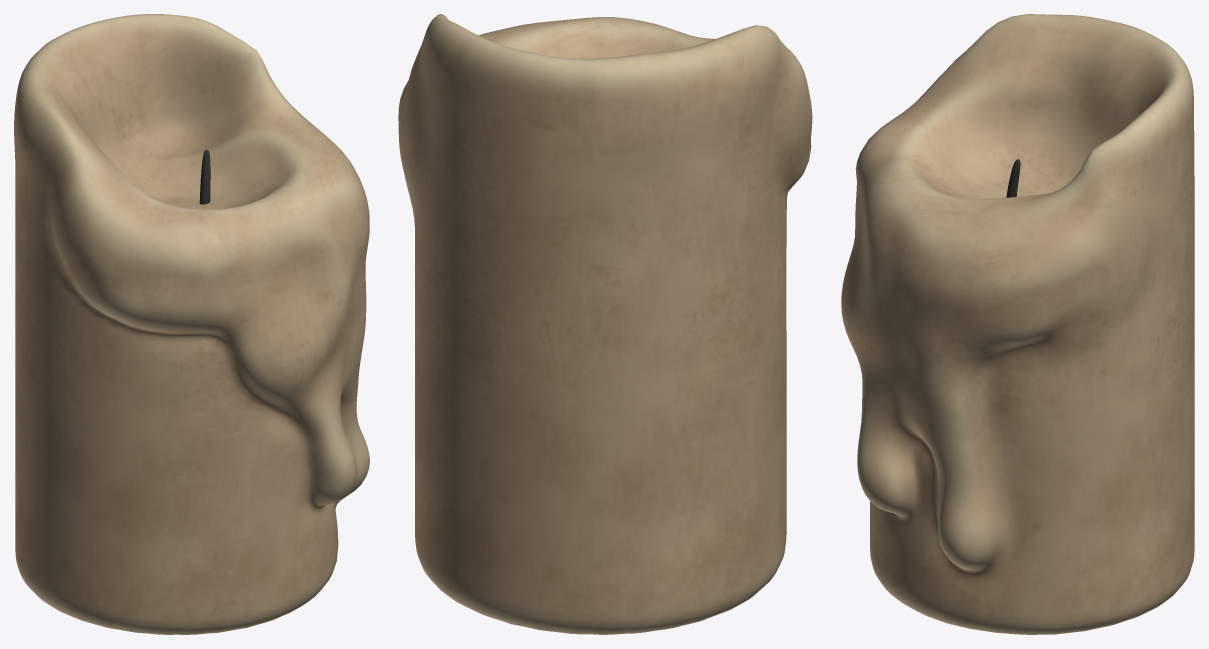
The model's file is Candle2.fbx.
The picture shows the model from 3 angles, left to right: view 1: azimuth 30°, elevation 25°; view 2: azimuth 150°, elevation 25°; view 3: azimuth 270°, elevation 25°; orthographic projection. The views are drawn at different scales.
Parts seen in each view (by area): view 1: Candle2_Low; view 2: Candle2_Low; view 3: Candle2_Low.
Part boxes in pixels (x1,y1,x2,y2): Candle2_Low: (14,14,369,634); Candle2_Low: (398,14,812,634); Candle2_Low: (841,14,1194,634).
Size of the model in its own units: 25.63 by 39.71 by 25.23.
